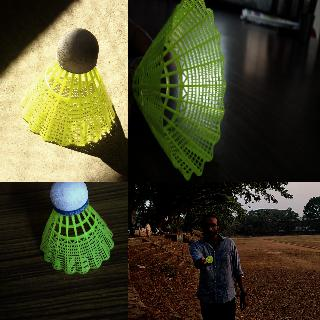shuttlecock: (128, 1, 225, 180), (21, 28, 114, 146), (40, 182, 114, 274), (205, 255, 212, 262)
